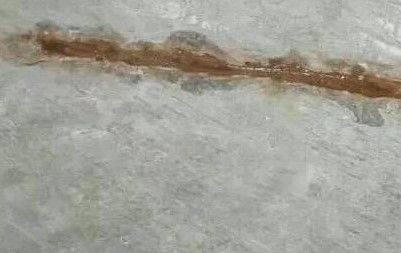Exposed reinforcement: (35, 35, 401, 100)
Spalling: (1, 19, 401, 127)
